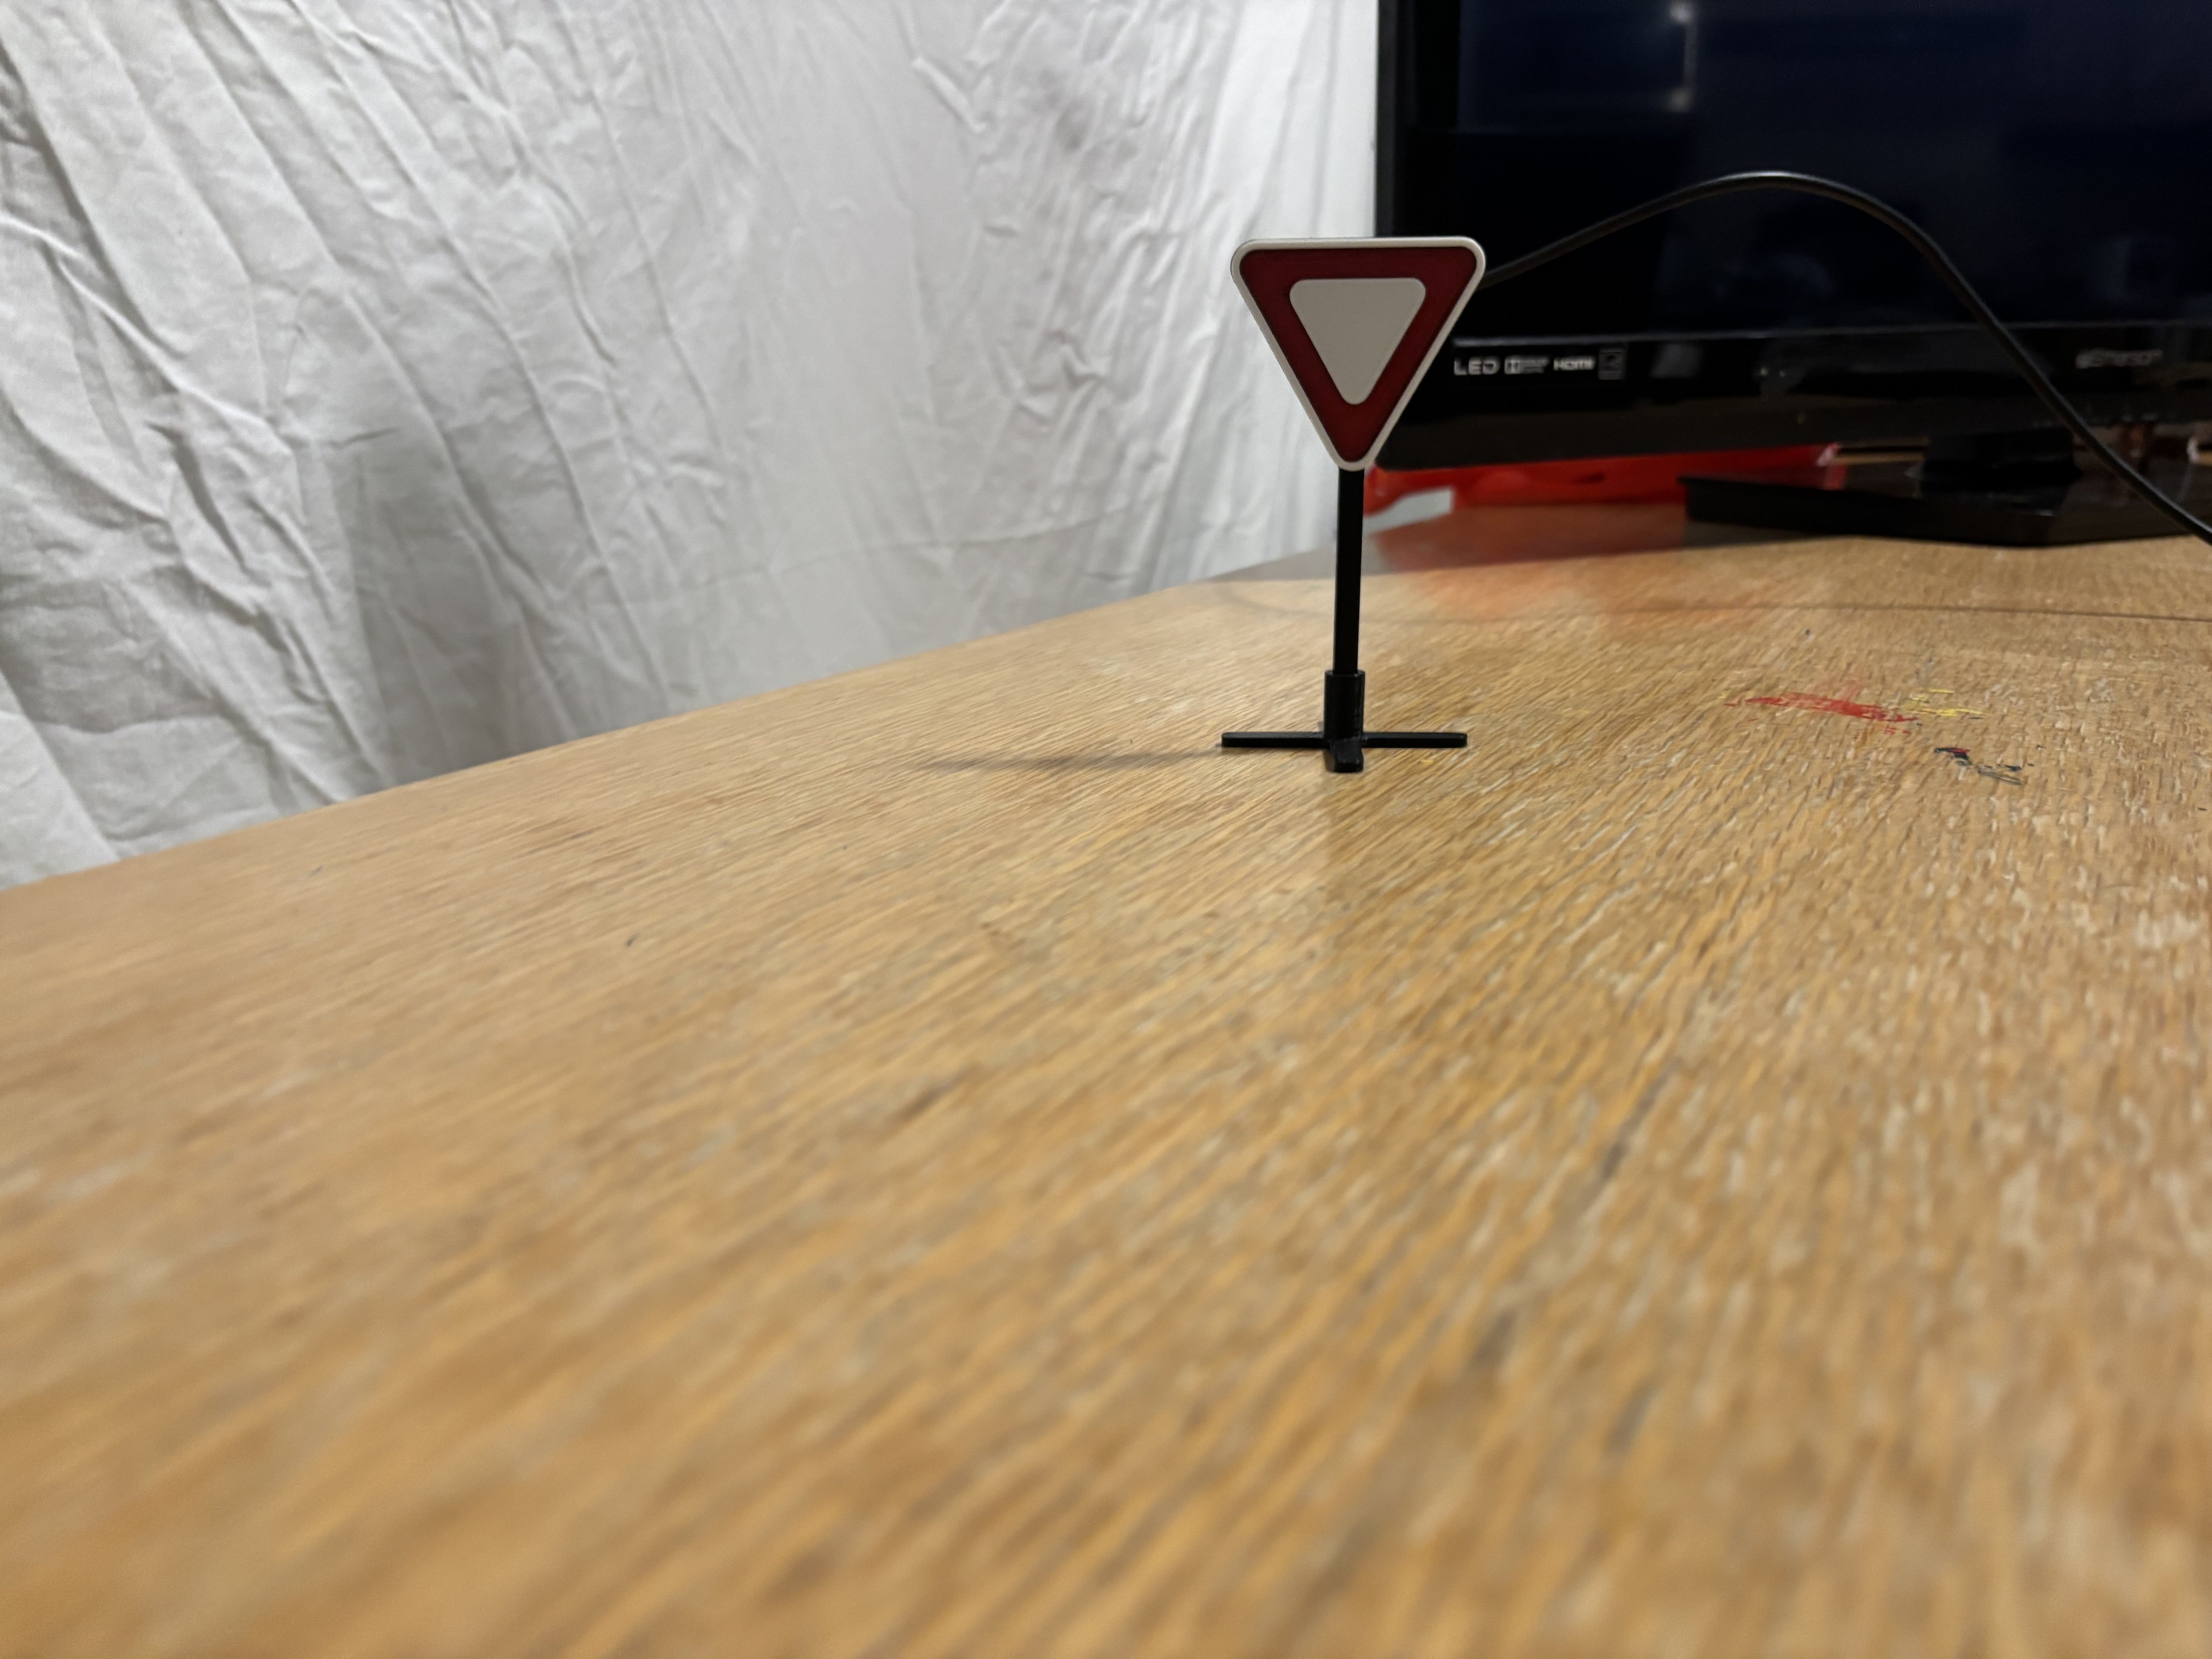sign_yield: (1212, 235, 1487, 465)
